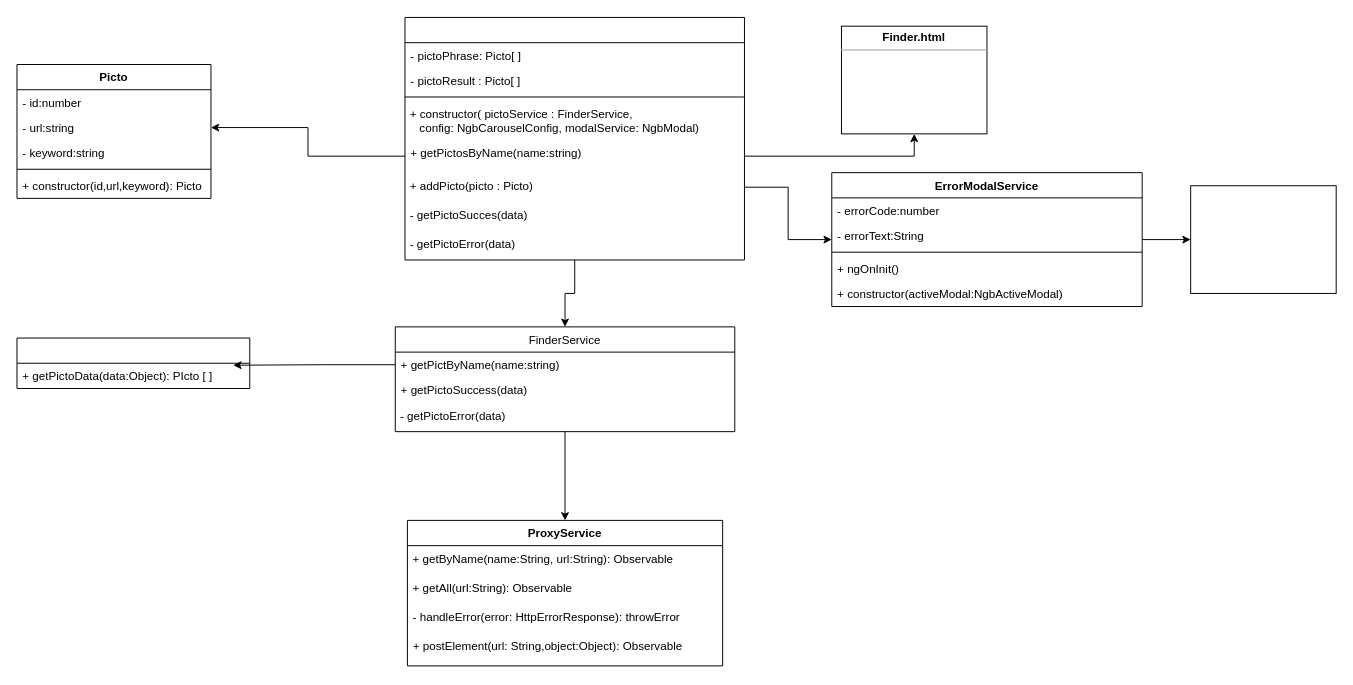
Some shapes in this 1353 by 685 pixel diagram are drawn without their labels. The shapes that lost their labels are listed below. From the top down, each one's box as (x1, y1, x2, y2) in pixels, then its label:
(404, 16, 744, 260): FinderController
(1190, 185, 1336, 293): Error-Modal.html
(16, 337, 250, 388): FinderTransformer
